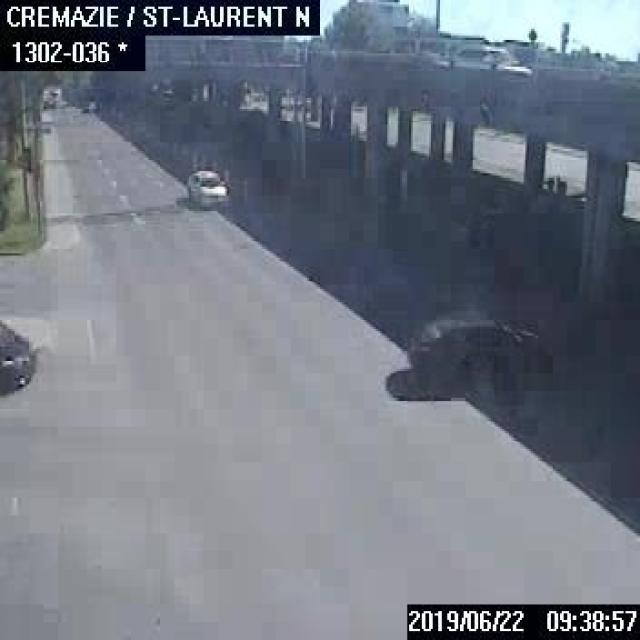construction: (240, 169, 249, 204), (222, 165, 231, 193)
vehicle: (404, 311, 556, 393), (447, 40, 530, 86), (0, 318, 33, 389), (183, 167, 226, 204), (84, 98, 97, 111)
